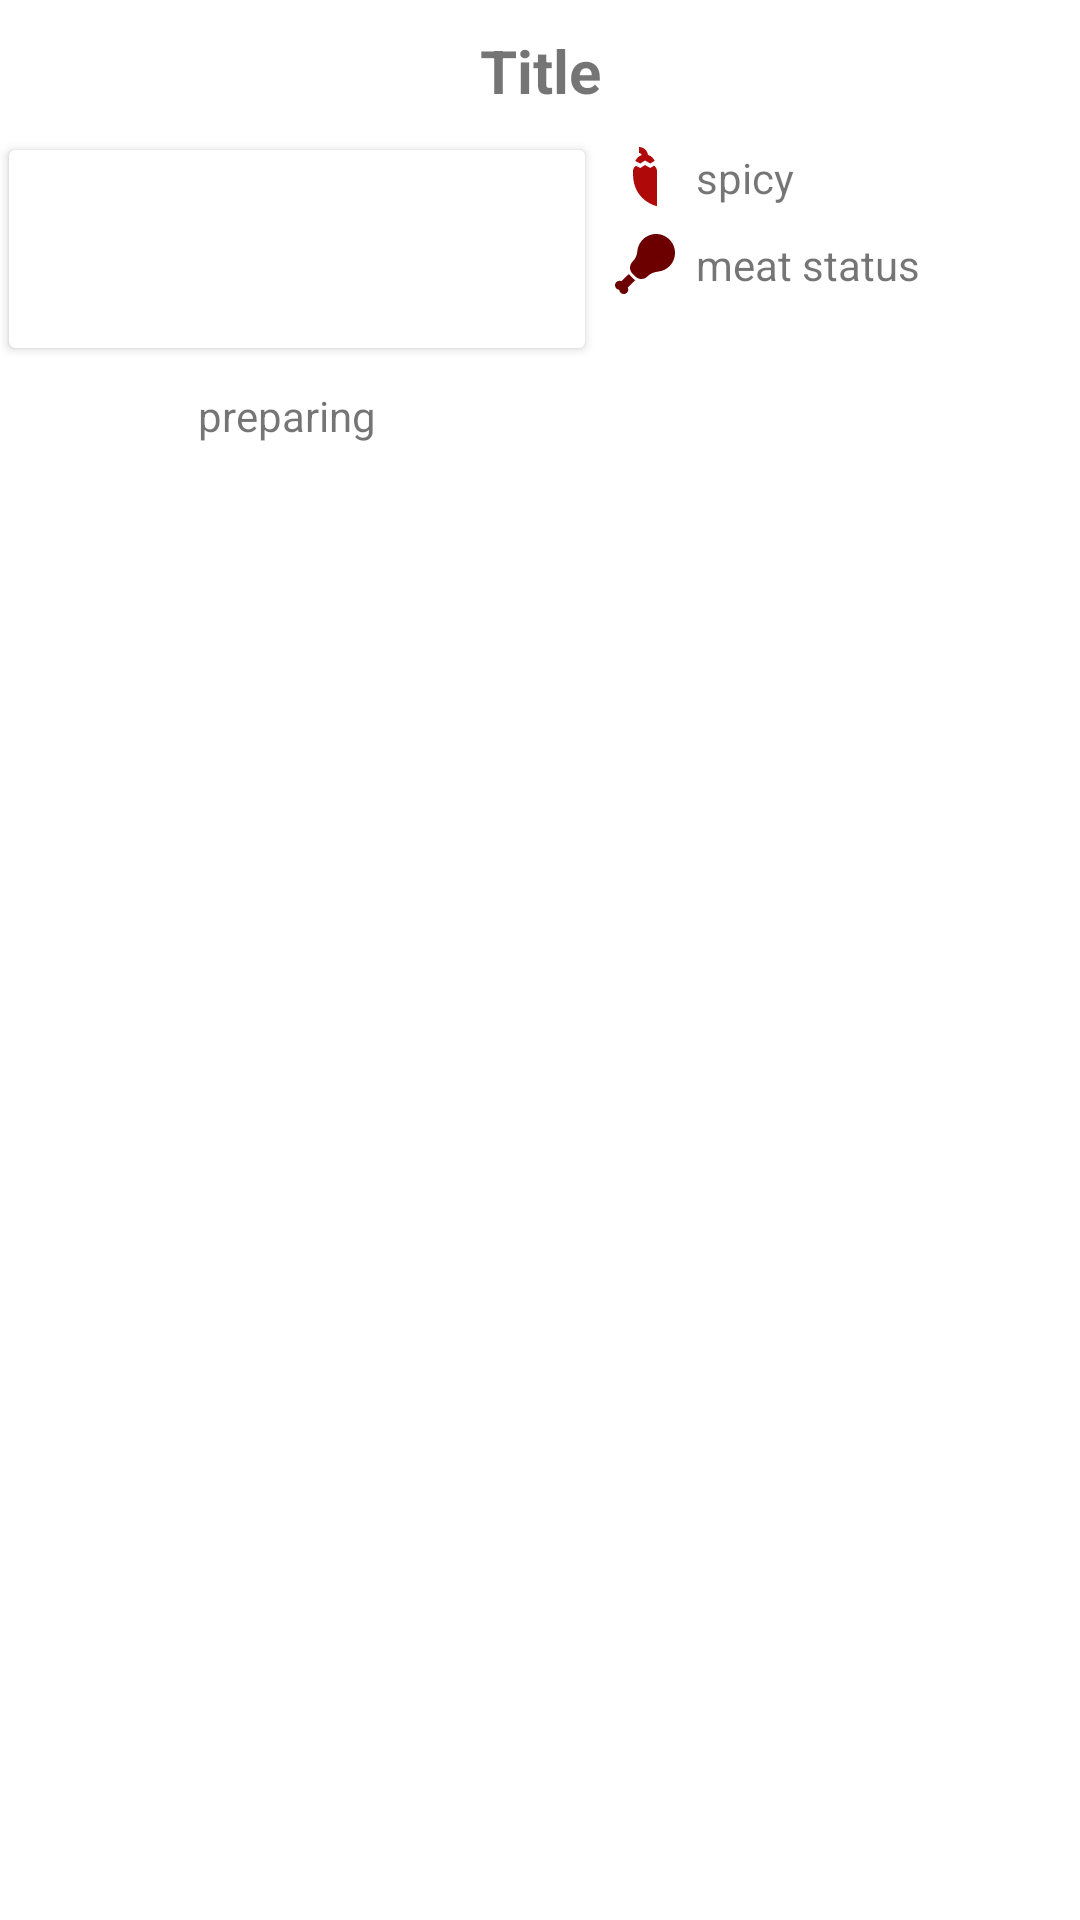

Point at icon controls on the screen. Image size 1080 × 1920, points as (x,y).
chili mild: (645,177)
meat symbol: (645,264)
